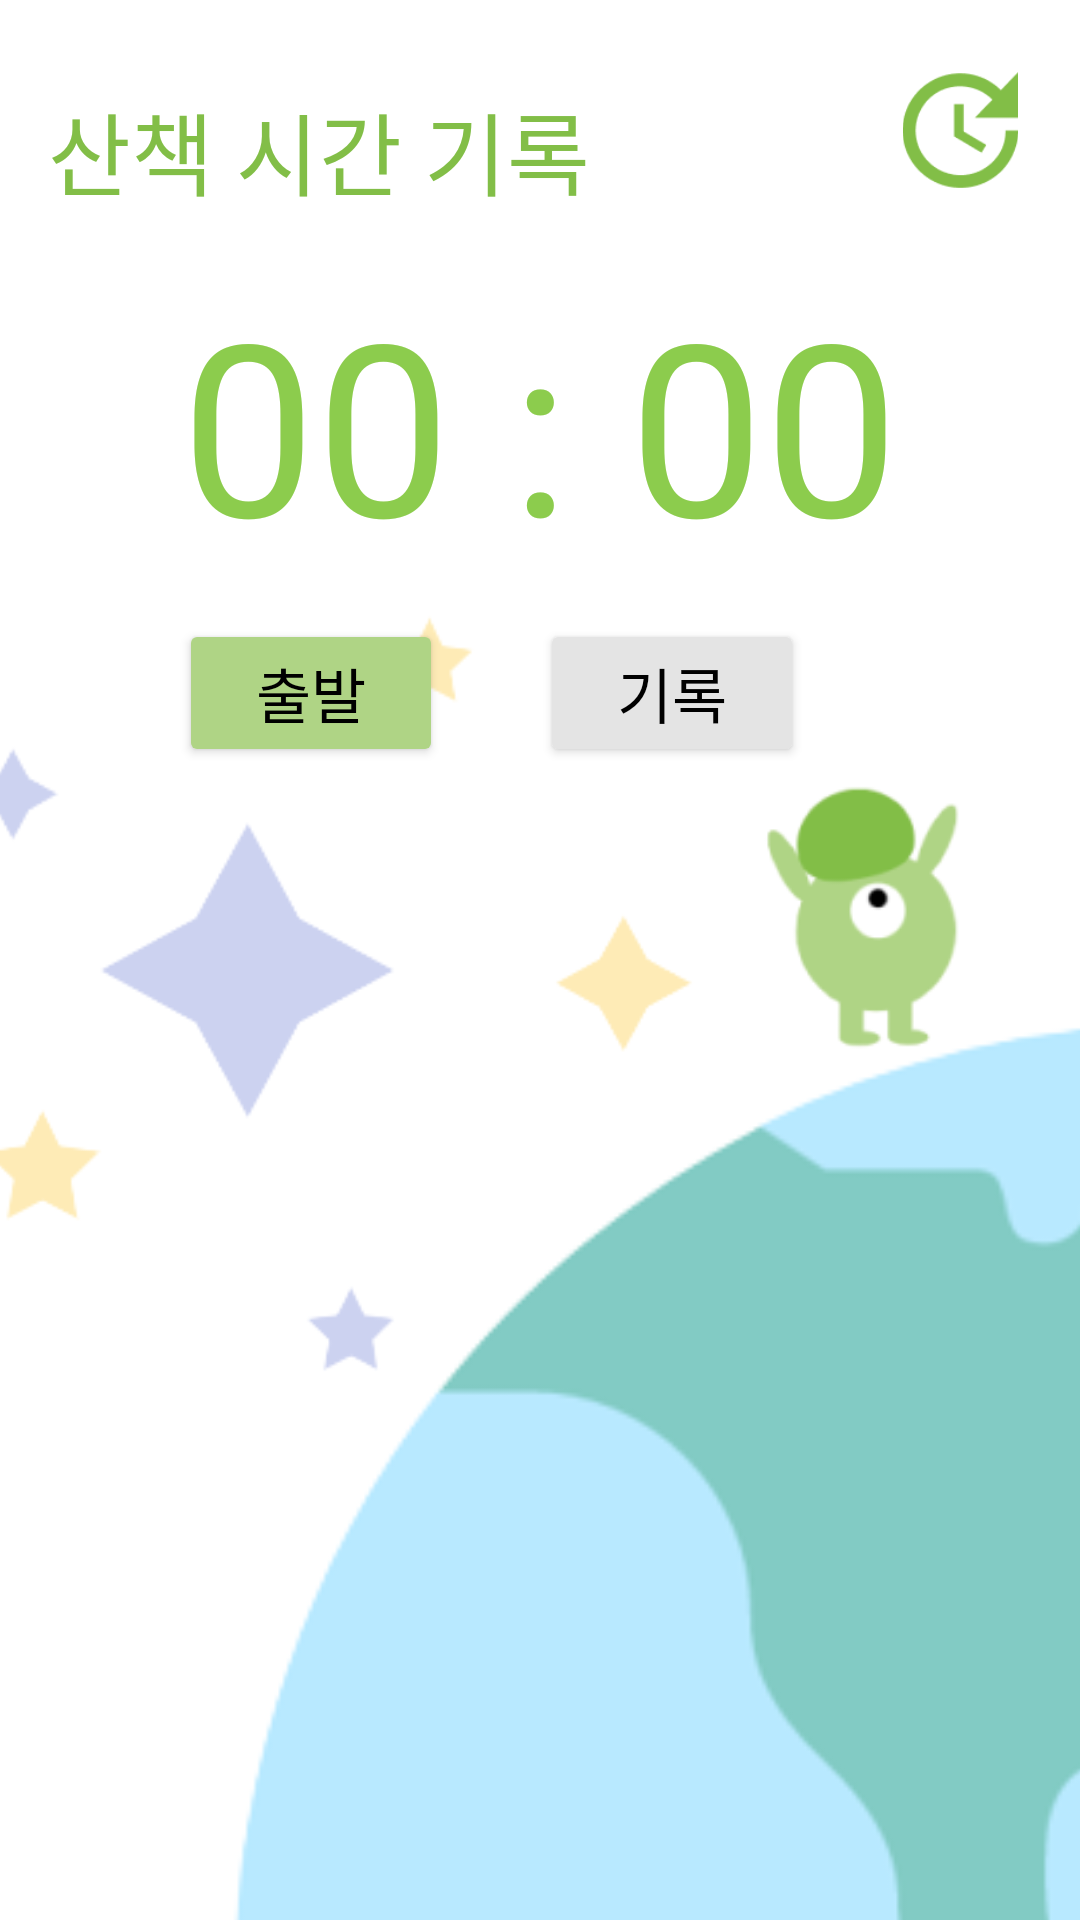

Screen size 1080x1920. Icon name, then its center in pixels as (x=x, y=y):
monstericon: (x=862, y=917)
